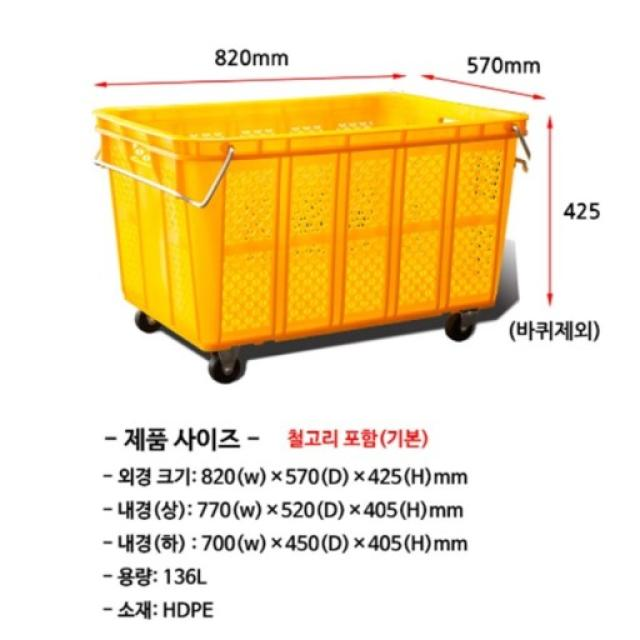basket: (91, 67, 552, 391)
